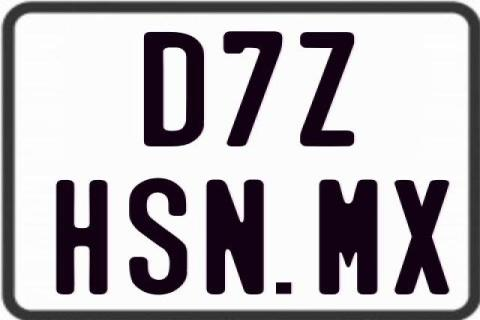0: (221, 30, 286, 146)
D: (141, 32, 203, 150)
H: (56, 180, 109, 298)
M: (316, 179, 375, 295)
N: (206, 180, 267, 296)
S: (128, 176, 188, 296)
X: (392, 178, 447, 294)
Z: (300, 30, 359, 144)
